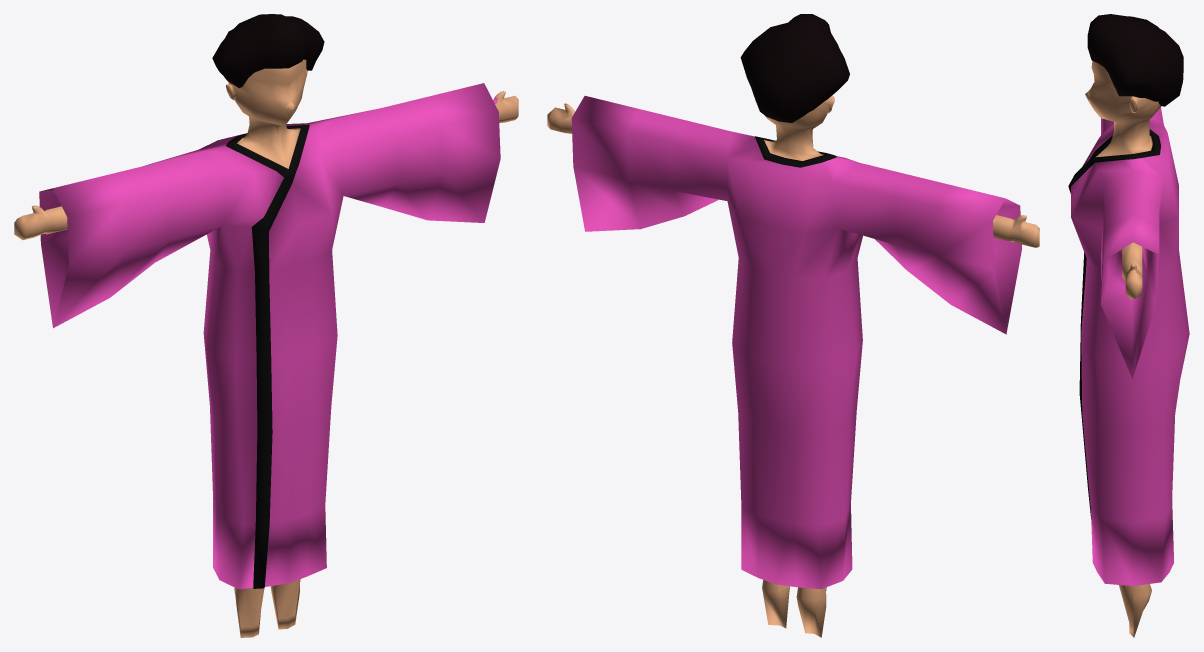
File: pink.fbx
3 views of the same model, side by side, from view 1: azimuth 30°, elevation 25°; view 2: azimuth 150°, elevation 25°; view 3: azimuth 270°, elevation 25° (orthographic). The views are drawn at different scales.
Visible parts, largest first — view 1: hair; view 2: hair; view 3: hair.
Boxes of the visible parts, box(x1,y1,x2,y2) form: hair: box(14, 14, 518, 637); hair: box(547, 14, 1039, 637); hair: box(1068, 14, 1189, 637).
Bounding box in the file's own units: 218 × 257 × 46.46.
